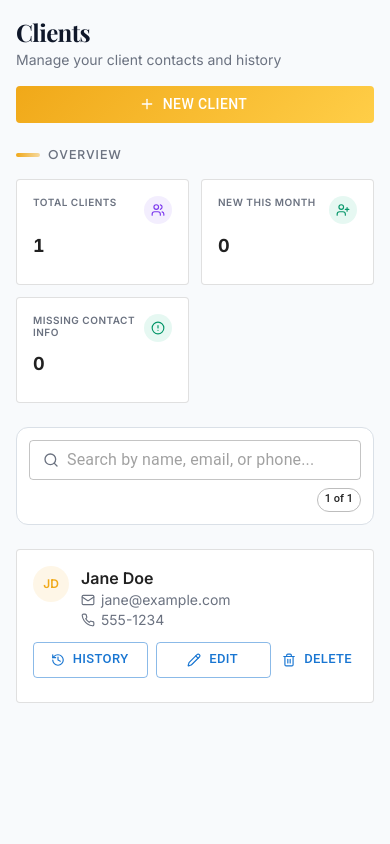
Clients › deletes a client after confirming
Later steps or results of the test are not shown.
Click the button "Delete".
click(318, 660)  # box [279, 642, 357, 678]
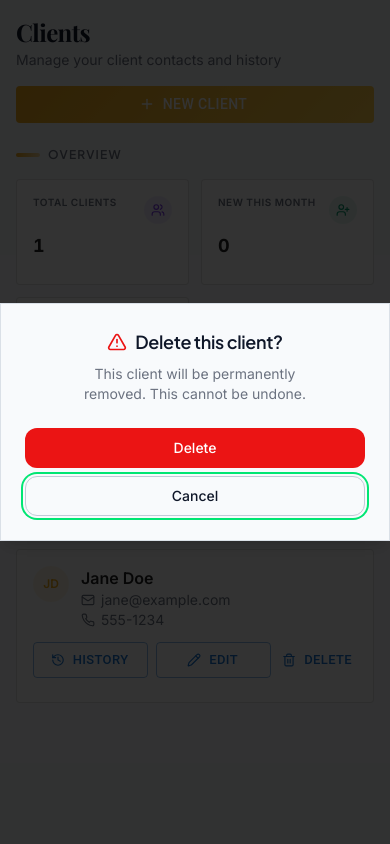
Expected: the heading "Delete this client?" is shown, [107, 330, 283, 353]
